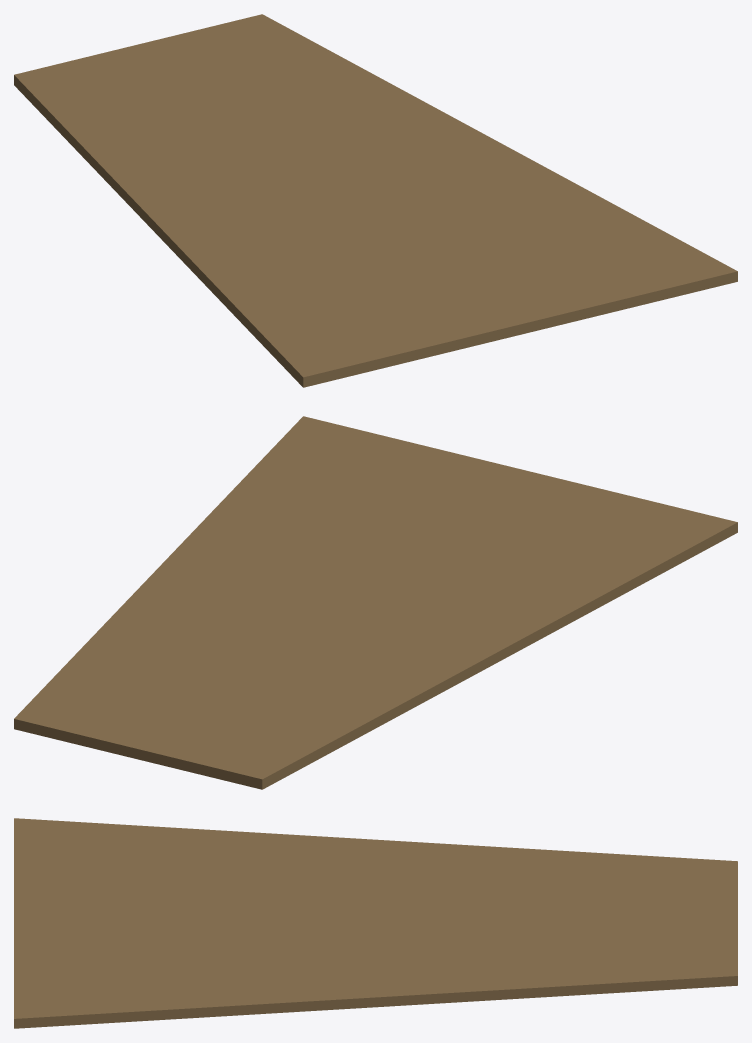
The model's file is road_dirt_connector_lod2.glb.
The picture shows the model from 3 angles, top to bottom: view 1: azimuth 30°, elevation 25°; view 2: azimuth 150°, elevation 25°; view 3: azimuth 270°, elevation 25°; orthographic projection. The views are drawn at different scales.
Visible parts, largest first — view 1: body; view 2: body; view 3: body.
Boxes of the visible parts, left/top/right/bottom form: body: left=14, top=14, right=737, bottom=387; body: left=14, top=416, right=737, bottom=789; body: left=14, top=818, right=737, bottom=1028.
Size of the model in its own units: 5.25 by 0.12 by 8.
